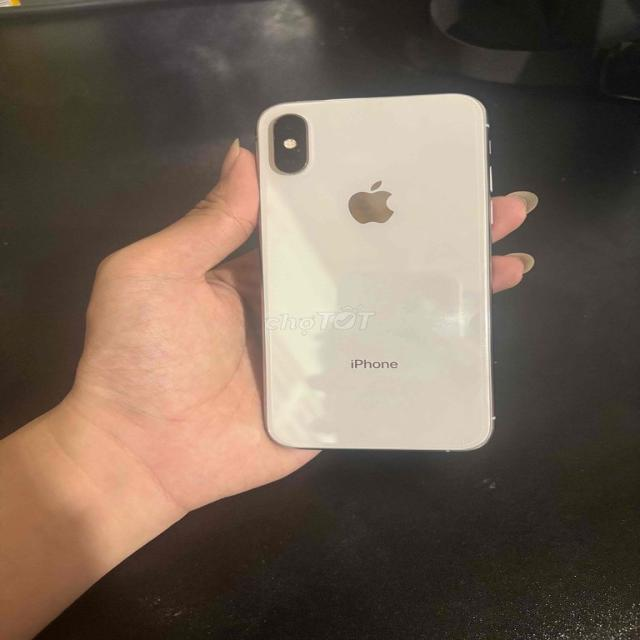scratch: (303, 158, 319, 172), (264, 118, 288, 127), (267, 133, 279, 144)
